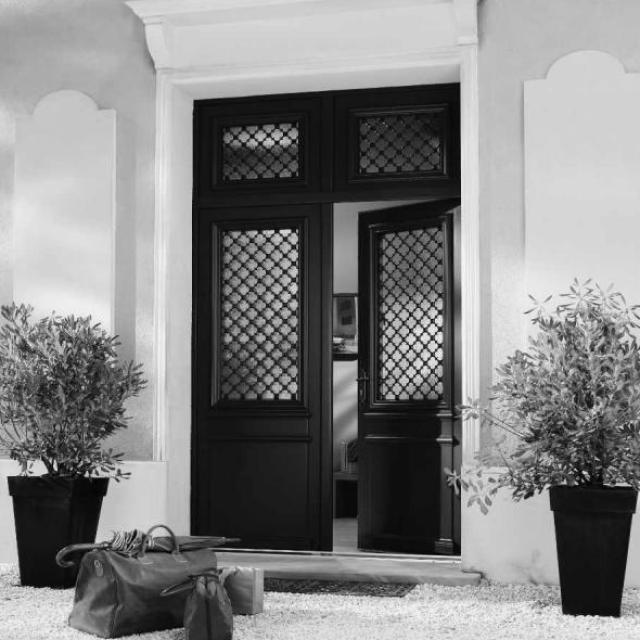door: (355, 199, 460, 555)
